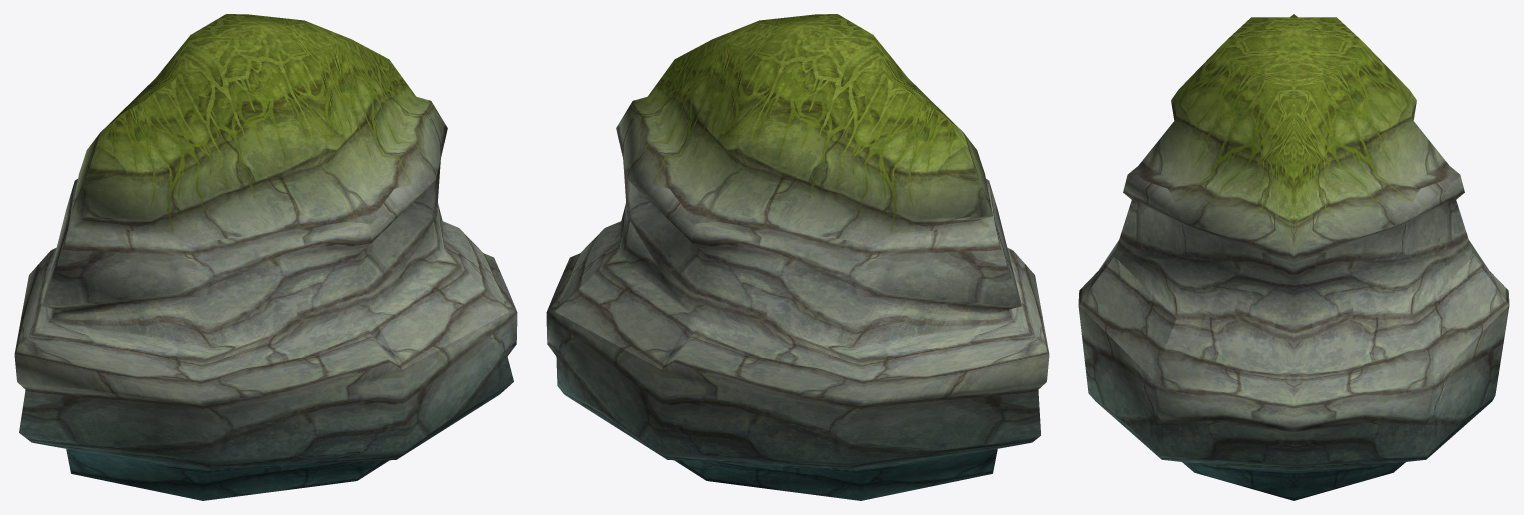
File: water big rock.FBX
3 views of the same model, side by side, from view 1: azimuth 30°, elevation 25°; view 2: azimuth 150°, elevation 25°; view 3: azimuth 270°, elevation 25° (orthographic). The views are drawn at different scales.
Visible parts, largest first — view 1: water big rock; view 2: water big rock; view 3: water big rock.
Boxes of the visible parts, x1,y1,x2,y2 form: water big rock: (14, 14, 517, 500); water big rock: (546, 14, 1049, 500); water big rock: (1078, 14, 1509, 500).
Size of the model in its own units: 22.09 by 17.61 by 17.65.
